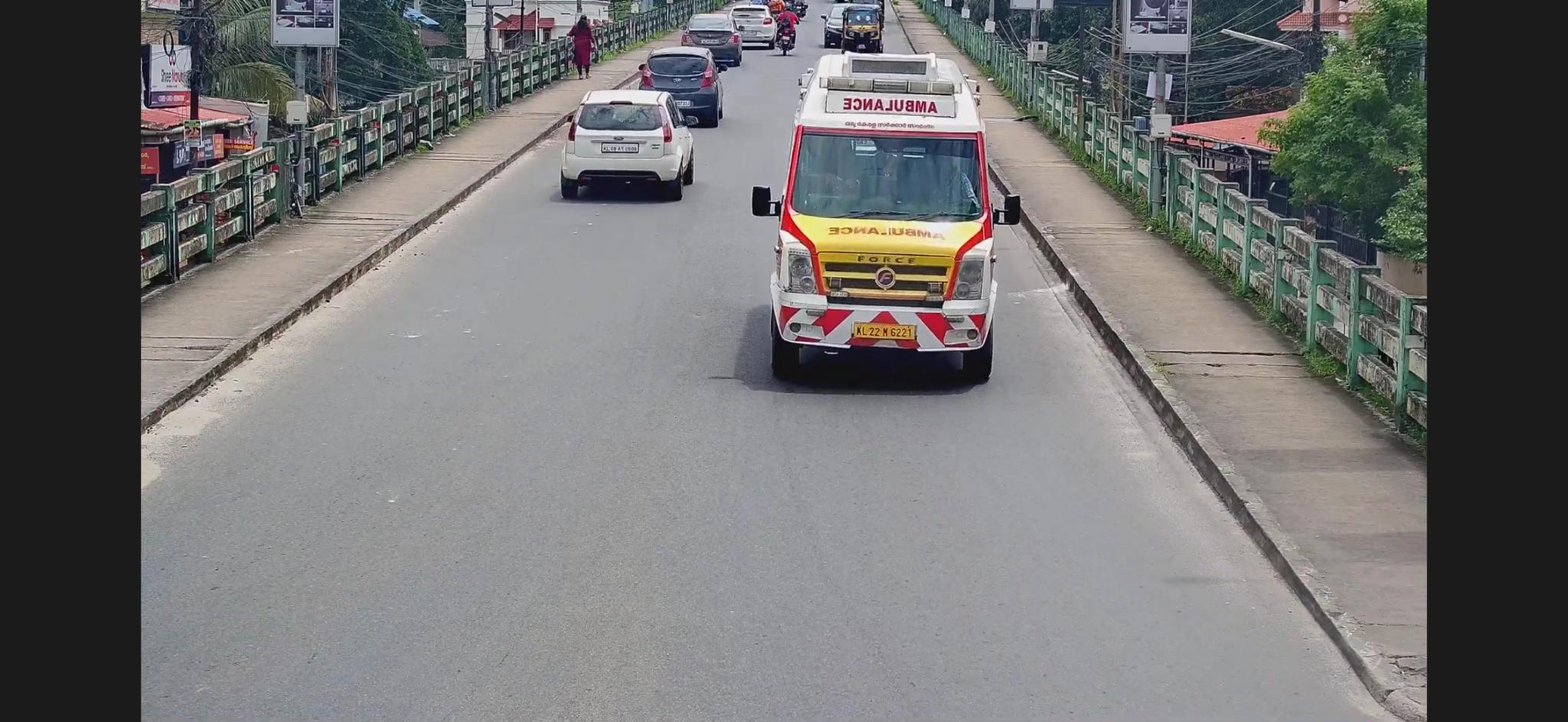ambulance: (766, 51, 1002, 382)
